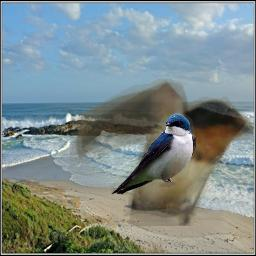Swallow: (70, 79, 253, 226), (111, 113, 196, 195)
